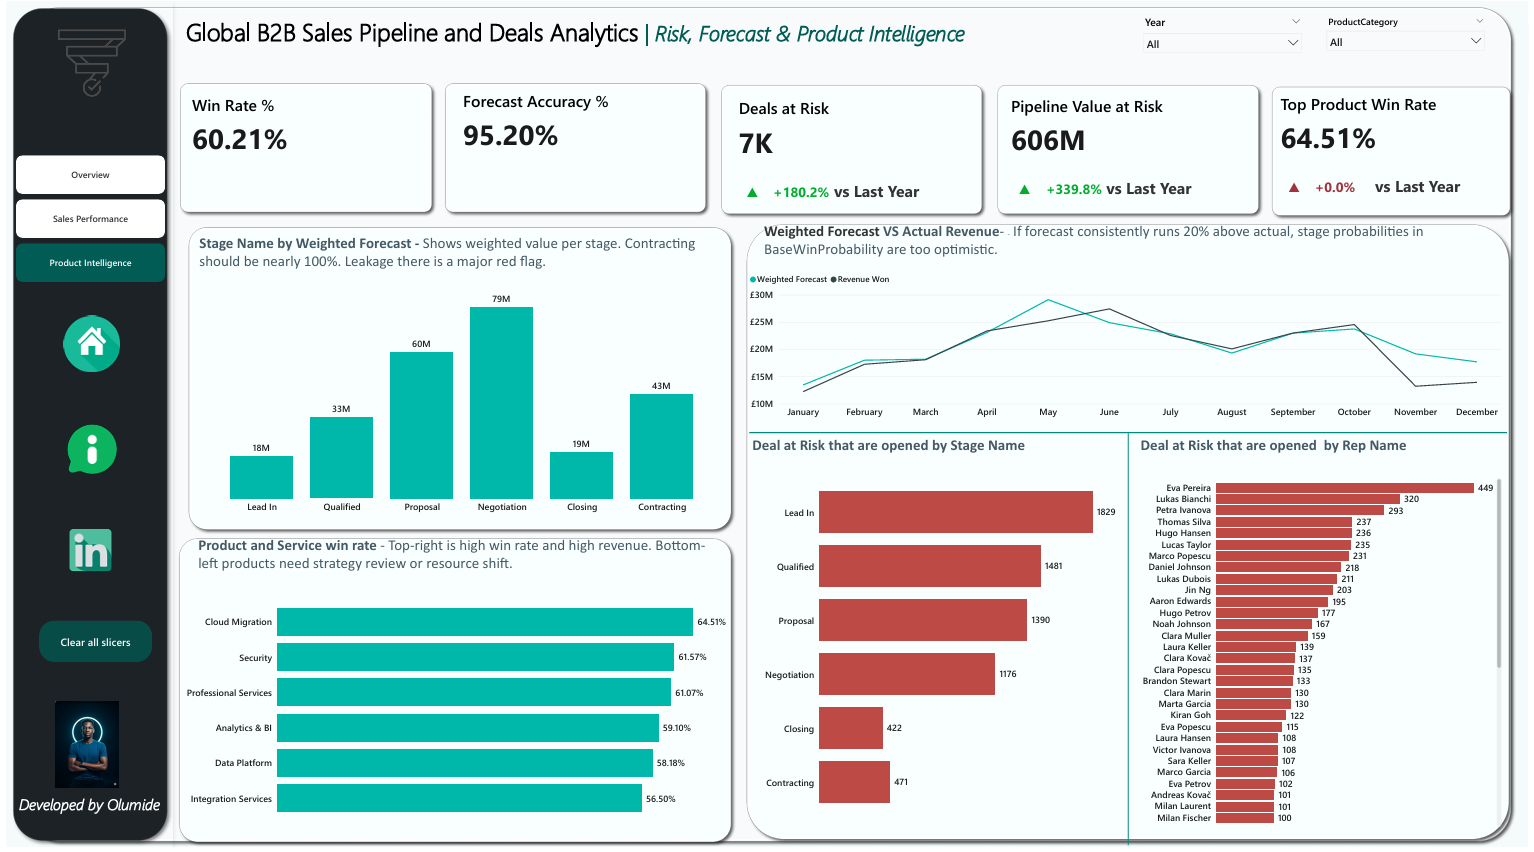

The page's visual inventory and layout, read from the dashboard file:
{"tool":"powerbi","page":{"name":"Product Intelligence","canvas":[2700,1500],"ordinal":2},"visuals":[{"type":"group","id":"g1","title":"Group 1","box":[0,0,2680,1500],"z":0},{"type":"shape","box":[25.2,0,2654.4,1500],"z":0,"group":"g1"},{"type":"shape","box":[0,0,297.2,1500],"z":1000,"group":"g1"},{"type":"shape","box":[297.5,135,466.6,249],"z":1000,"group":"g2"},{"type":"shape","box":[1303.2,385.4,1373,1110.5],"z":1000},{"type":"group","id":"g2","title":"Group 2","box":[297.5,135,2380,255],"z":2000},{"type":"textbox","box":[277,19.3,1464.6,89.1],"z":3000},{"type":"cardVisual","fields":{"Data":["FactDeals.3_Win Rate %"]},"box":[312,156,345,127.5],"z":4000},{"type":"slicer","fields":{"Values":["DimDate.Year"]},"box":[2006.6,19.3,301.1,89.1],"z":5000},{"type":"slicer","fields":{"Values":["FactDeals.ProductCategory"]},"box":[2331.8,19.3,301.1,89.1],"z":6000},{"type":"shape","box":[767.5,135,483.4,249],"z":7000,"group":"g2"},{"type":"cardVisual","fields":{"Data":["FactDeals.14_Forecast Accuracy %"]},"box":[792.5,156.6,436,110.8],"z":7000},{"type":"shape","box":[1257.6,138,483.4,249],"z":8000,"group":"g2"},{"type":"cardVisual","fields":{"Data":["FactDeals.11_Deals at Risk"]},"box":[1281.5,161.4,414.3,127.7],"z":8000},{"type":"shape","box":[1747.7,138,483.4,249],"z":9000,"group":"g2"},{"type":"cardVisual","fields":{"Data":["FactDeals.11_Deal at Risk YoY Icon"]},"box":[1295.5,293,95,77.5],"z":9000},{"type":"shape","box":[2234.4,141,443.1,249],"z":10000,"group":"g2"},{"type":"cardVisual","fields":{"Data":["FactDeals.11_Deal at Risk YoY Display"]},"box":[1343,293,157.5,77.5],"z":10000},{"type":"cardVisual","fields":{"Data":["FactDeals.11_Deal at Risk YoY Label"]},"box":[1450.5,295.5,260,70],"z":11000},{"type":"cardVisual","fields":{"Data":["FactDeals.13_Pipeline Value at Risk"]},"box":[1765.3,157.3,414.3,127.7],"z":12000},{"type":"cardVisual","fields":{"Data":["FactDeals.13_Pipeline Value at Risk YoY Icon"]},"box":[1779.3,288.9,95,77.5],"z":13000},{"type":"cardVisual","fields":{"Data":["FactDeals.13_Pipeline value at Risk YoY Display"]},"box":[1826.8,288.9,157.5,77.5],"z":14000},{"type":"cardVisual","fields":{"Data":["FactDeals.13_Pipeline Value at Risk YoY Label"]},"box":[1934.3,291.4,260,70],"z":15000},{"type":"cardVisual","fields":{"Data":["FactDeals.13_Top Product Win Rate"]},"box":[2243,153.3,414.3,127.7],"z":16000},{"type":"cardVisual","fields":{"Data":["FactDeals.13_Top Product Win Rate YoY Icon"]},"box":[2257,284.9,95,77.5],"z":17000},{"type":"cardVisual","fields":{"Data":["FactDeals.13_Top Product Win Rate YoY Display"]},"box":[2304.5,284.9,157.5,77.5],"z":18000},{"type":"cardVisual","fields":{"Data":["FactDeals.13_Top Product Win Rate YoY Label"]},"box":[2411.3,286.7,245.7,69.9],"z":19000},{"type":"shape","box":[313.2,390.2,982.8,556.4],"z":20000},{"type":"shape","box":[296.3,941.9,999.7,558.9],"z":21000},{"type":"barChart","fields":{"Category":["FactDeals.ProductCategory"],"Y":["FactDeals.3_Win Rate %"]},"box":[313.2,1038.2,968.4,431.2],"z":22000},{"type":"textbox","box":[334.8,941.9,922.6,93.9],"z":23000},{"type":"columnChart","fields":{"Category":["FactDeals.StageName"],"Y":["FactDeals.4_Weighted Forecast"]},"box":[334.8,501,946.7,416.7],"z":24000},{"type":"textbox","box":[337.2,407.1,922.6,93.9],"z":25000},{"type":"lineChart","fields":{"Category":["DimDate.MonthName"],"Y":["FactDeals.4_Weighted Forecast","FactDeals.2_Revenue Won"]},"box":[1312.8,472.1,1344.1,277],"z":26000},{"type":"textbox","box":[1339.3,385.4,1194.8,93.9],"z":27000},{"type":"shape","box":[1317.6,749.2,1344.1,31.3],"z":28000},{"type":"shape","box":[1953.6,766,72.3,729.9],"z":29000},{"type":"barChart","fields":{"Category":["FactDeals.StageName"],"Y":["FactDeals.11_Deals at Risk"]},"box":[1339.3,816.6,633.5,650.4],"z":30000},{"type":"textbox","box":[1317.6,766,672.1,50.6],"z":31000},{"type":"barChart","fields":{"Y":["FactDeals.11_Deals at Risk"],"Category":["DimSalesRep.RepName"]},"box":[2006.6,833.5,650.4,635.9],"z":32000},{"type":"textbox","box":[2006.6,766,655.2,50.6],"z":33000},{"type":"pageNavigator","box":[17.2,273.5,263.6,224.2],"z":34000},{"type":"textbox","box":[16.9,1399.5,265,55.4],"z":35000},{"type":"image","box":[24.1,1235.7,238.5,163.8],"z":36000},{"type":"image","box":[92.5,740,117.5,107.5],"z":37000},{"type":"image","box":[96.1,549.4,110.9,115.8],"z":38000},{"type":"image","box":[71.5,39.4,160.2,140.4],"z":39000},{"type":"image","box":[90,917.5,117.5,110],"z":40000},{"type":"textbox","box":[100,100,300,300],"z":41000},{"type":"actionButton","box":[57.8,1098.4,199.9,72.3],"z":43000}]}

Visuals, with their boxes on the page's 2700x1500 design canvas (x1, y1, x2, y2). These are canvas units, not pixel positions in the 1534x852 screenshot, which may show the page scaled, cropped or inside an application window:
"Group 1" group: l=0, t=0, r=2680, b=1500
shape: l=25, t=0, r=2680, b=1500
shape: l=0, t=0, r=297, b=1500
shape: l=298, t=135, r=764, b=384
shape: l=1303, t=385, r=2676, b=1496
"Group 2" group: l=298, t=135, r=2678, b=390
textbox: l=277, t=19, r=1742, b=108
cardVisual - FactDeals.3_Win Rate %: l=312, t=156, r=657, b=284
slicer - DimDate.Year: l=2007, t=19, r=2308, b=108
slicer - FactDeals.ProductCategory: l=2332, t=19, r=2633, b=108
shape: l=768, t=135, r=1251, b=384
cardVisual - FactDeals.14_Forecast Accuracy %: l=792, t=157, r=1228, b=267
shape: l=1258, t=138, r=1741, b=387
cardVisual - FactDeals.11_Deals at Risk: l=1282, t=161, r=1696, b=289
shape: l=1748, t=138, r=2231, b=387
cardVisual - FactDeals.11_Deal at Risk YoY Icon: l=1296, t=293, r=1390, b=370
shape: l=2234, t=141, r=2678, b=390
cardVisual - FactDeals.11_Deal at Risk YoY Display: l=1343, t=293, r=1500, b=370
cardVisual - FactDeals.11_Deal at Risk YoY Label: l=1450, t=296, r=1710, b=366
cardVisual - FactDeals.13_Pipeline Value at Risk: l=1765, t=157, r=2180, b=285
cardVisual - FactDeals.13_Pipeline Value at Risk YoY Icon: l=1779, t=289, r=1874, b=366
cardVisual - FactDeals.13_Pipeline value at Risk YoY Display: l=1827, t=289, r=1984, b=366
cardVisual - FactDeals.13_Pipeline Value at Risk YoY Label: l=1934, t=291, r=2194, b=361
cardVisual - FactDeals.13_Top Product Win Rate: l=2243, t=153, r=2657, b=281
cardVisual - FactDeals.13_Top Product Win Rate YoY Icon: l=2257, t=285, r=2352, b=362
cardVisual - FactDeals.13_Top Product Win Rate YoY Display: l=2304, t=285, r=2462, b=362
cardVisual - FactDeals.13_Top Product Win Rate YoY Label: l=2411, t=287, r=2657, b=357
shape: l=313, t=390, r=1296, b=947
shape: l=296, t=942, r=1296, b=1501
barChart - FactDeals.ProductCategory x FactDeals.3_Win Rate %: l=313, t=1038, r=1282, b=1469
textbox: l=335, t=942, r=1257, b=1036
columnChart - FactDeals.StageName x FactDeals.4_Weighted Forecast: l=335, t=501, r=1282, b=918
textbox: l=337, t=407, r=1260, b=501
lineChart - DimDate.MonthName x FactDeals.4_Weighted Forecast: l=1313, t=472, r=2657, b=749
textbox: l=1339, t=385, r=2534, b=479
shape: l=1318, t=749, r=2662, b=780
shape: l=1954, t=766, r=2026, b=1496
barChart - FactDeals.StageName x FactDeals.11_Deals at Risk: l=1339, t=817, r=1973, b=1467
textbox: l=1318, t=766, r=1990, b=817
barChart - FactDeals.11_Deals at Risk x DimSalesRep.RepName: l=2007, t=834, r=2657, b=1469
textbox: l=2007, t=766, r=2662, b=817
pageNavigator: l=17, t=274, r=281, b=498
textbox: l=17, t=1400, r=282, b=1455
image: l=24, t=1236, r=263, b=1400
image: l=92, t=740, r=210, b=848
image: l=96, t=549, r=207, b=665
image: l=72, t=39, r=232, b=180
image: l=90, t=918, r=208, b=1028
textbox: l=100, t=100, r=400, b=400
actionButton: l=58, t=1098, r=258, b=1171
